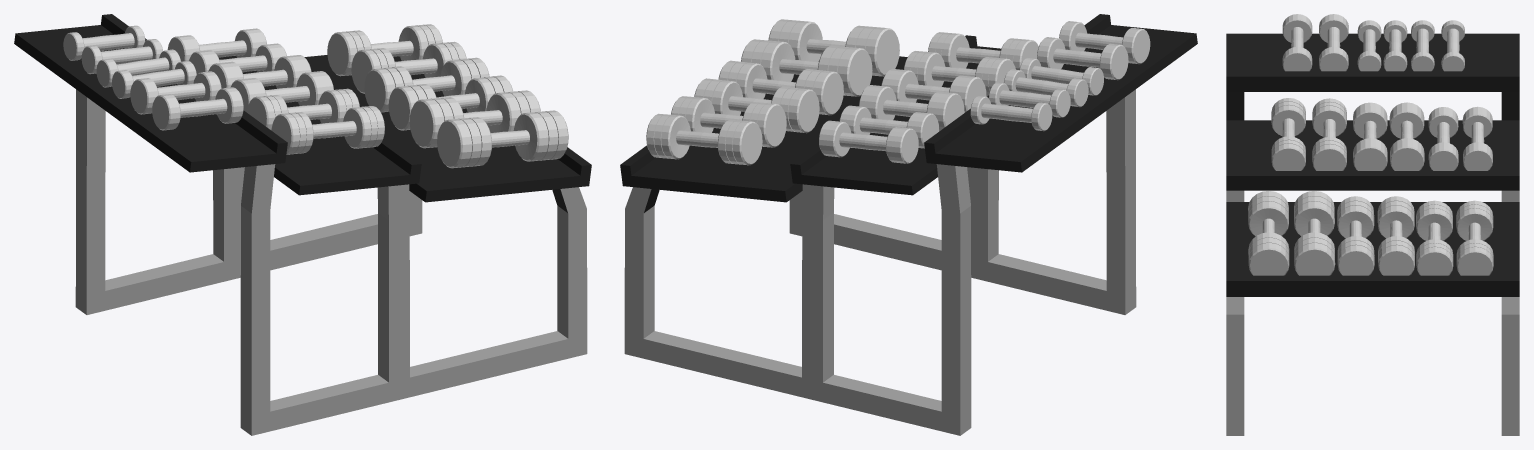
File: ChromeDumbbellsSet.002.fbx
The picture shows the model from 3 angles, left to right: view 1: azimuth 30°, elevation 25°; view 2: azimuth 150°, elevation 25°; view 3: azimuth 270°, elevation 25°; orthographic projection. The views are drawn at different scales.
Visible parts, largest first — view 1: ChromeDumbbellsSet.001; view 2: ChromeDumbbellsSet.001; view 3: ChromeDumbbellsSet.001.
Boxes of the visible parts, bbox=[...] form: ChromeDumbbellsSet.001: bbox=[14, 14, 591, 435]; ChromeDumbbellsSet.001: bbox=[620, 14, 1197, 435]; ChromeDumbbellsSet.001: bbox=[1226, 14, 1519, 435].
Size of the model in its own units: 81.71 by 62.09 by 61.91.
